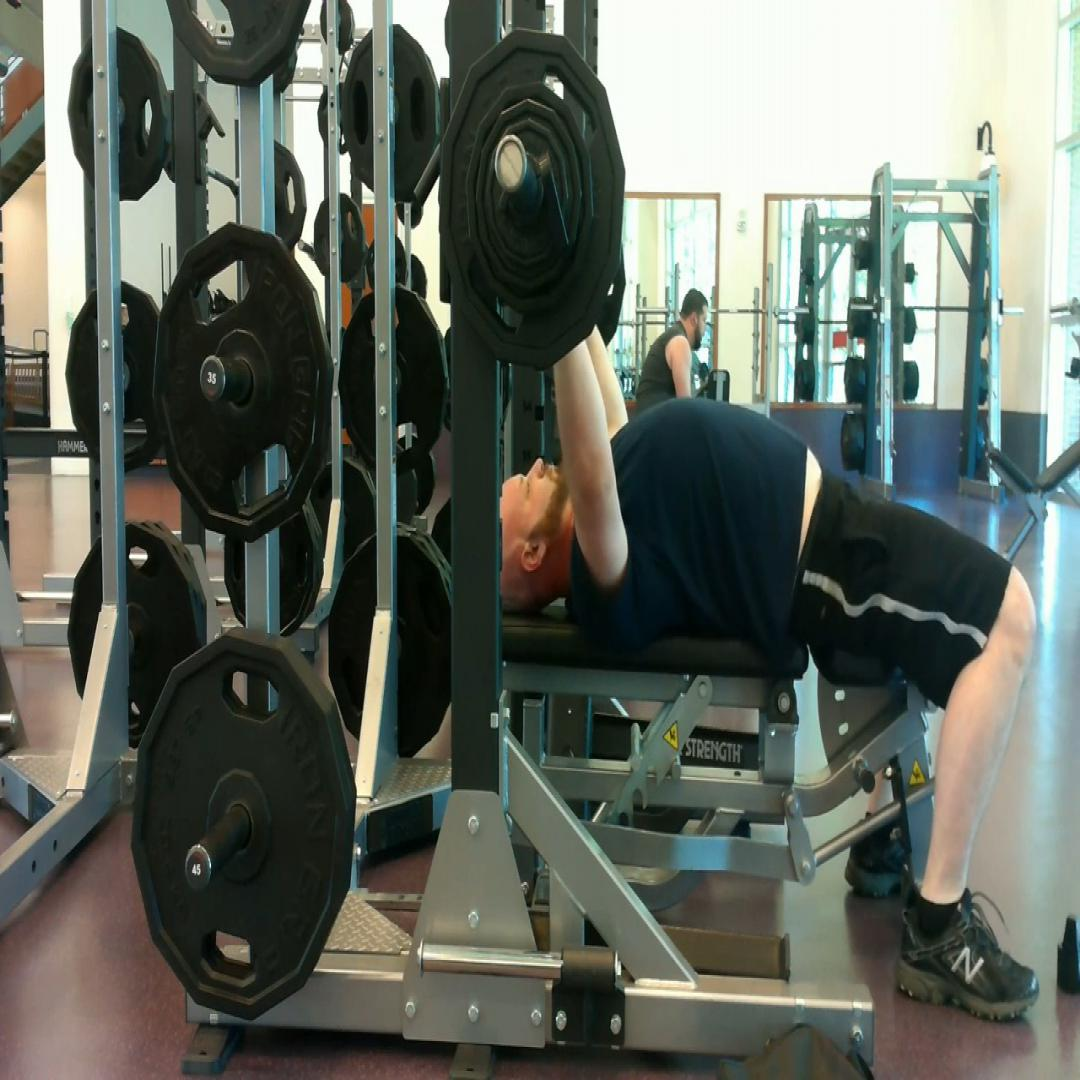Bar: (494, 135, 526, 192)
Barbell: (439, 30, 625, 366)
